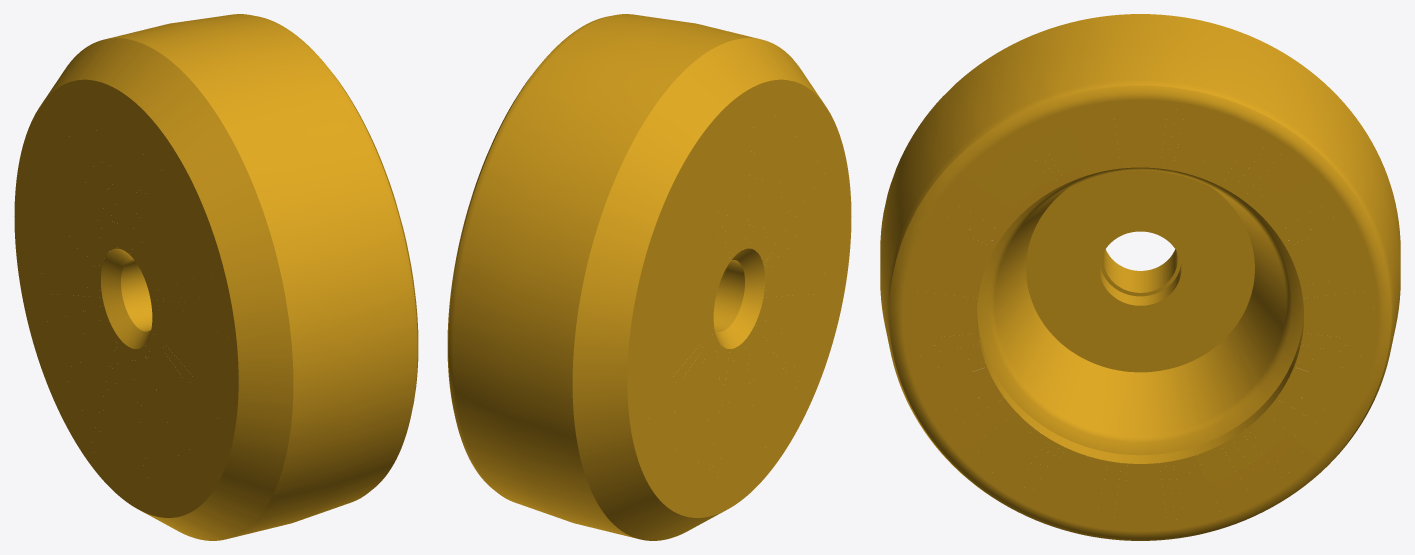
Rendered from takoz-mtb-210-top-buffer-02.glb.
The picture shows the model from 3 angles, left to right: view 1: azimuth 30°, elevation 25°; view 2: azimuth 150°, elevation 25°; view 3: azimuth 270°, elevation 25°; orthographic projection.
Parts seen in each view (by area): view 1: body; view 2: body; view 3: body.
Boxes of the visible parts, <box> form: body: <box>14,14,418,540</box>; body: <box>447,14,851,540</box>; body: <box>880,14,1400,540</box>.
Bounding box in the file's own units: 0.135 × 0.35 × 0.35.
